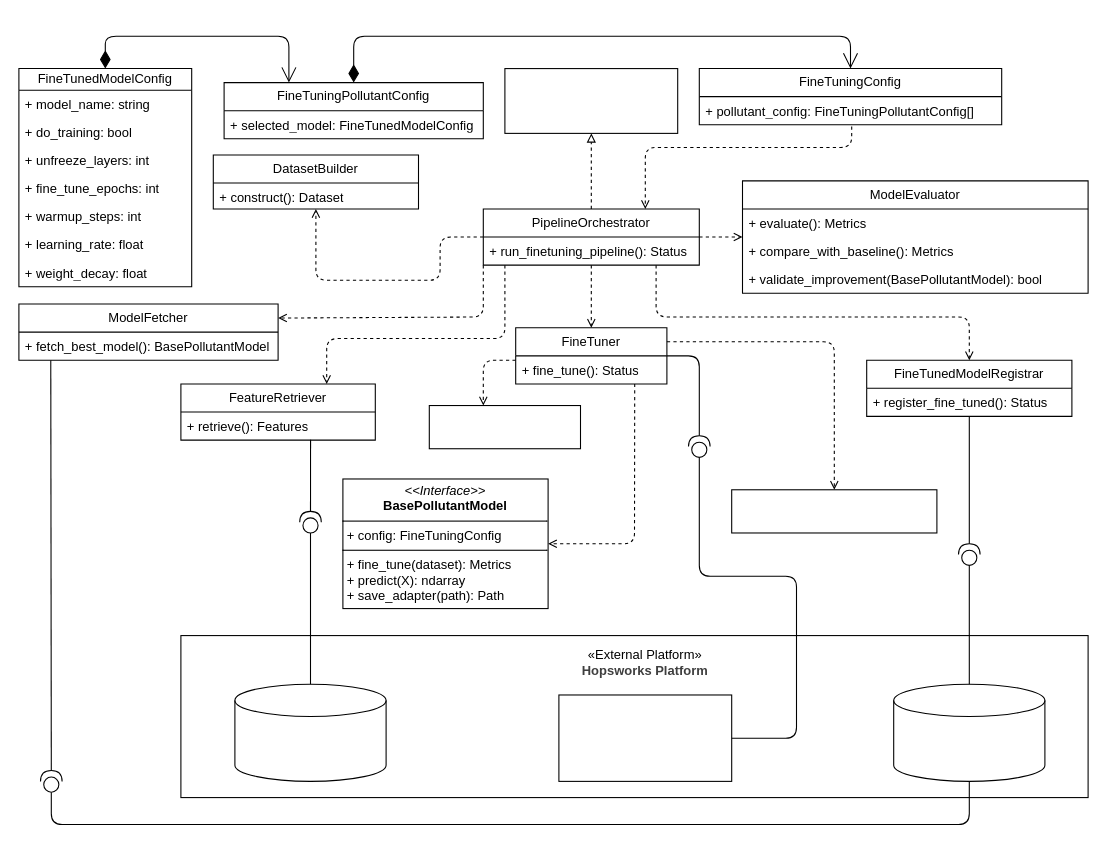
Some shapes in this 1107 by 845 pixel diagram are drawn without their labels. Here are the shapes that lost their labels. From the top down, the centre of each, then its label:
the point at 591,100: «interface» FineTuning Pipeline Interface
the point at 504,426: Selected Model Registry
the point at 834,511: <<Interface>> Callbacks
the point at 310,732: «Feature Store» AQI Feature Store
the point at 645,737: «External Service» MLflow Tracking Server
the point at 969,732: «Model Registry» AQI Model Registry
